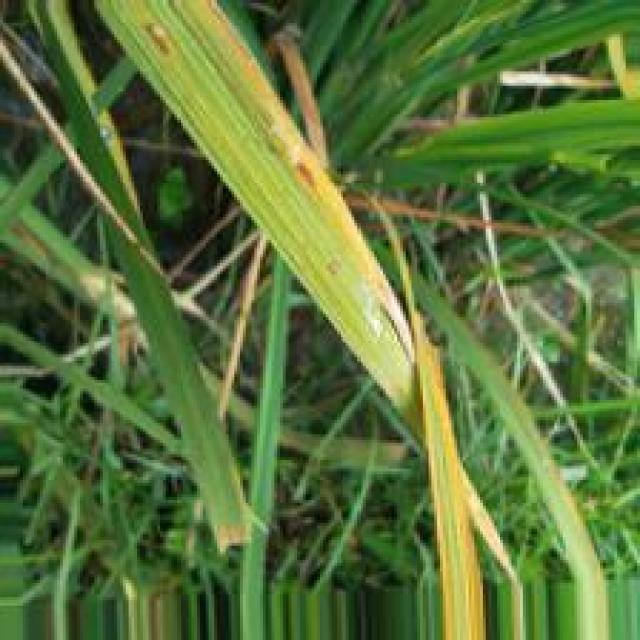Narrow_Brown_Leaf_Spot: (137, 20, 186, 72), (283, 151, 320, 193)
